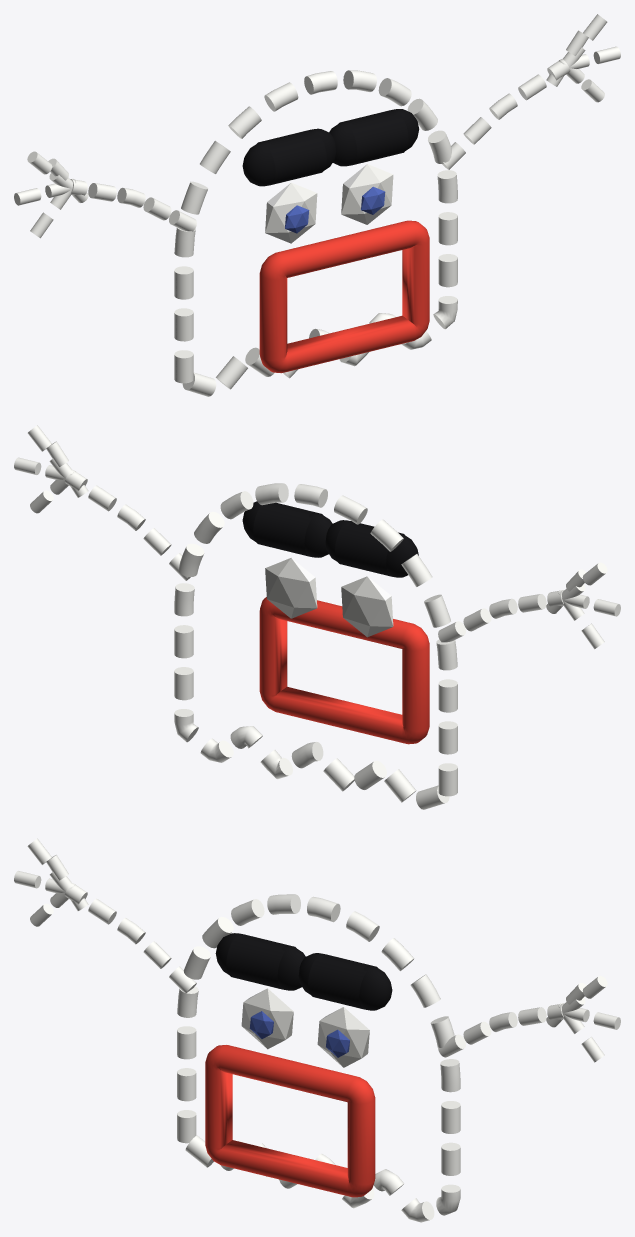
The model's file is ghost_respawn.glb.
3 views of the same model, one above another, from view 1: azimuth 30°, elevation 25°; view 2: azimuth 150°, elevation 25°; view 3: azimuth 330°, elevation 25° (orthographic).
Parts seen in each view (by area): view 1: ghost_respawn_big_square_red_panic_mouth, ghost_respawn_left_brow_tone_1, ghost_respawn_right_brow_tone_1, ghost_respawn_right_eye, ghost_respawn_left_eye, ghost_respawn_left_brow_tone_1_round_cap_1, ghost_respawn_right_brow_tone_1_round_cap_0, ghost_respawn_dashed_white_body_outline_dash_01, ghost_respawn_dashed_white_body_outline_dash_02, ghost_respawn_dashed_white_body_outline_dash_00, ghost_respawn_dashed_white_body_outline_dash_14, ghost_respawn_dashed_white_body_outline_dash_15 (+14 smaller); view 2: ghost_respawn_big_square_red_panic_mouth, ghost_respawn_right_eye, ghost_respawn_left_eye, ghost_respawn_right_brow_tone_1, ghost_respawn_left_brow_tone_1, ghost_respawn_right_brow_tone_1_round_cap_0, ghost_respawn_left_brow_tone_1_round_cap_1, ghost_respawn_dashed_white_body_outline_dash_02, ghost_respawn_dashed_white_body_outline_dash_14, ghost_respawn_dashed_white_body_outline_dash_00, ghost_respawn_dashed_white_body_outline_dash_13, ghost_respawn_dashed_white_body_outline_dash_01 (+20 smaller); view 3: ghost_respawn_big_square_red_panic_mouth, ghost_respawn_left_brow_tone_1, ghost_respawn_right_brow_tone_1, ghost_respawn_right_eye, ghost_respawn_left_eye, ghost_respawn_right_brow_tone_1_round_cap_1, ghost_respawn_left_brow_tone_1_round_cap_0, ghost_respawn_dashed_white_body_outline_dash_01, ghost_respawn_dashed_white_body_outline_dash_02, ghost_respawn_dashed_white_body_outline_dash_07, ghost_respawn_dashed_white_body_outline_dash_15, ghost_respawn_dashed_white_body_outline_dash_08 (+13 smaller).
Boxes of the visible parts, <box> form: ghost_respawn_big_square_red_panic_mouth: <box>259,220,429,373</box>; ghost_respawn_left_brow_tone_1: <box>257,129,326,185</box>; ghost_respawn_right_brow_tone_1: <box>338,109,408,165</box>; ghost_respawn_right_eye: <box>341,164,393,224</box>; ghost_respawn_left_eye: <box>265,182,317,243</box>; ghost_respawn_left_brow_tone_1_round_cap_1: <box>242,141,275,186</box>; ghost_respawn_right_brow_tone_1_round_cap_0: <box>329,121,357,166</box>; ghost_respawn_dashed_white_body_outline_dash_01: <box>174,308,193,341</box>; ghost_respawn_dashed_white_body_outline_dash_02: <box>174,266,193,299</box>; ghost_respawn_dashed_white_body_outline_dash_00: <box>174,350,193,383</box>; ghost_respawn_dashed_white_body_outline_dash_14: <box>438,212,457,245</box>; ghost_respawn_dashed_white_body_outline_dash_15: <box>438,254,457,287</box>; ghost_respawn_big_square_red_panic_mouth: <box>259,597,429,744</box>; ghost_respawn_right_eye: <box>265,558,317,618</box>; ghost_respawn_left_eye: <box>341,576,393,637</box>; ghost_respawn_right_brow_tone_1: <box>253,502,322,556</box>; ghost_respawn_left_brow_tone_1: <box>335,521,404,576</box>; ghost_respawn_right_brow_tone_1_round_cap_0: <box>304,512,332,557</box>; ghost_respawn_left_brow_tone_1_round_cap_1: <box>386,533,418,577</box>; ghost_respawn_dashed_white_body_outline_dash_02: <box>438,679,457,712</box>; ghost_respawn_dashed_white_body_outline_dash_14: <box>174,625,193,658</box>; ghost_respawn_dashed_white_body_outline_dash_00: <box>438,763,457,796</box>; ghost_respawn_dashed_white_body_outline_dash_13: <box>174,583,194,616</box>; ghost_respawn_dashed_white_body_outline_dash_01: <box>438,721,457,754</box>; ghost_respawn_big_square_red_panic_mouth: <box>205,1045,375,1197</box>; ghost_respawn_left_brow_tone_1: <box>226,934,295,989</box>; ghost_respawn_right_brow_tone_1: <box>308,954,377,1009</box>; ghost_respawn_right_eye: <box>317,1007,369,1067</box>; ghost_respawn_left_eye: <box>241,988,293,1049</box>; ghost_respawn_right_brow_tone_1_round_cap_1: <box>359,965,392,1010</box>; ghost_respawn_left_brow_tone_1_round_cap_0: <box>277,945,305,990</box>; ghost_respawn_dashed_white_body_outline_dash_01: <box>177,1068,196,1101</box>; ghost_respawn_dashed_white_body_outline_dash_02: <box>177,1026,196,1059</box>; ghost_respawn_dashed_white_body_outline_dash_07: <box>267,894,300,914</box>; ghost_respawn_dashed_white_body_outline_dash_15: <box>441,1142,460,1175</box>; ghost_respawn_dashed_white_body_outline_dash_08: <box>307,896,340,922</box>.
Bounding box in the file's own units: 1.5 × 0.7163 × 0.175.
